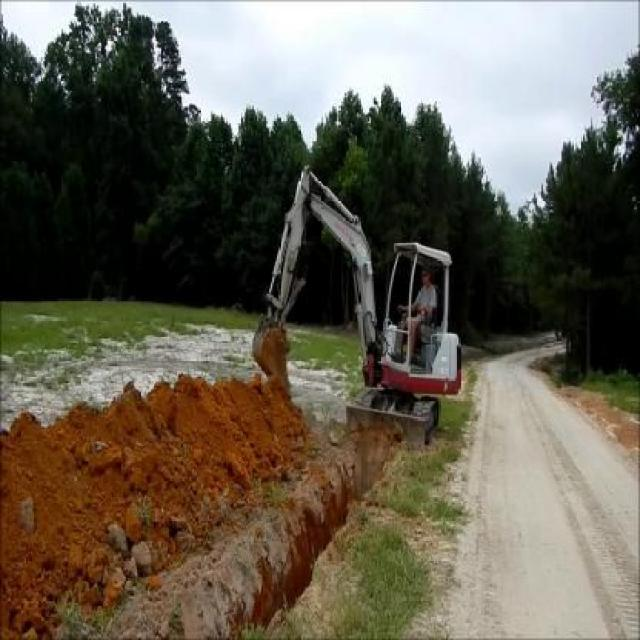Excavator: (251, 162, 463, 452)
